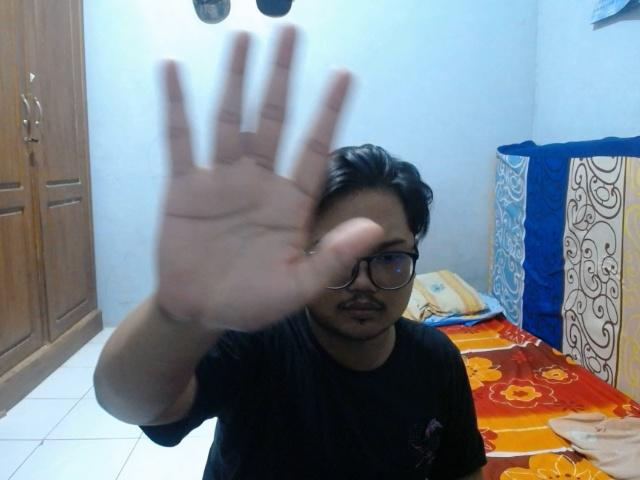Release: (147, 18, 389, 342)
